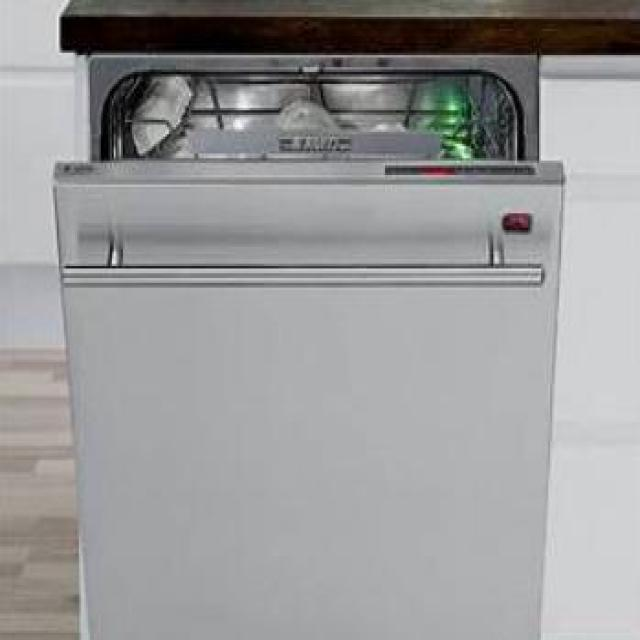dishwasher: (49, 52, 568, 638)
